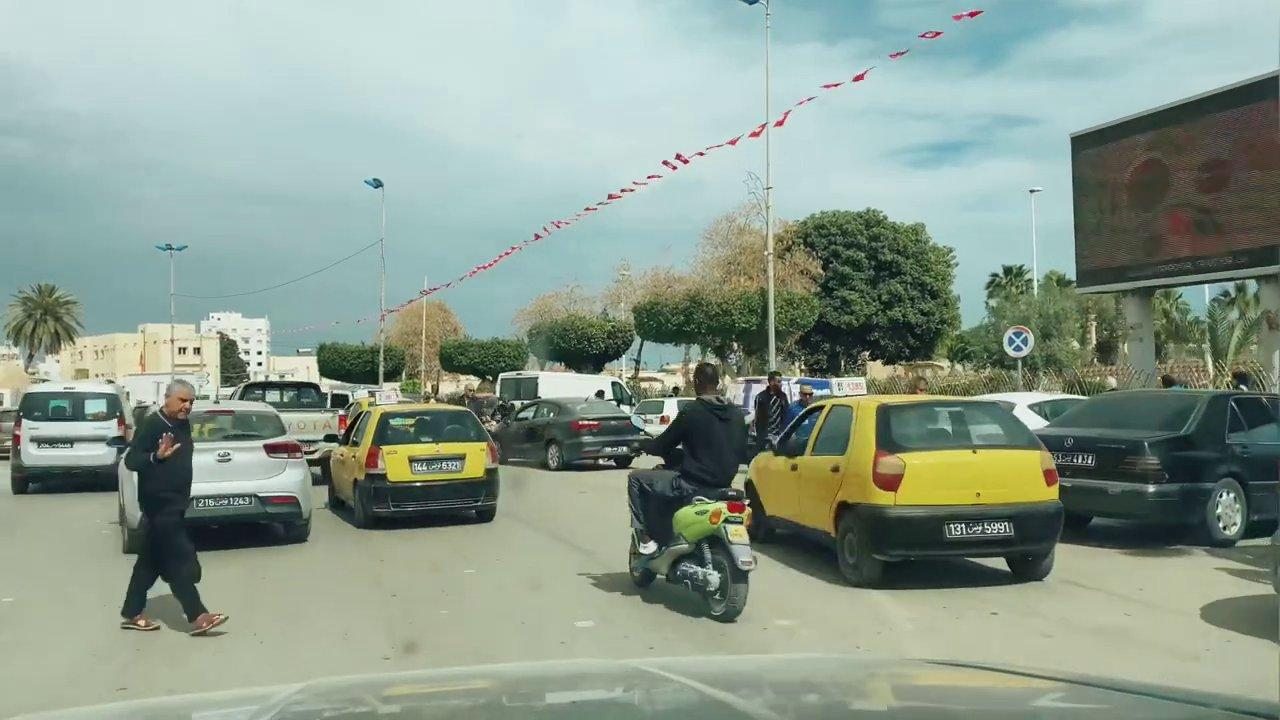no stopping: (1000, 324, 1035, 357)
